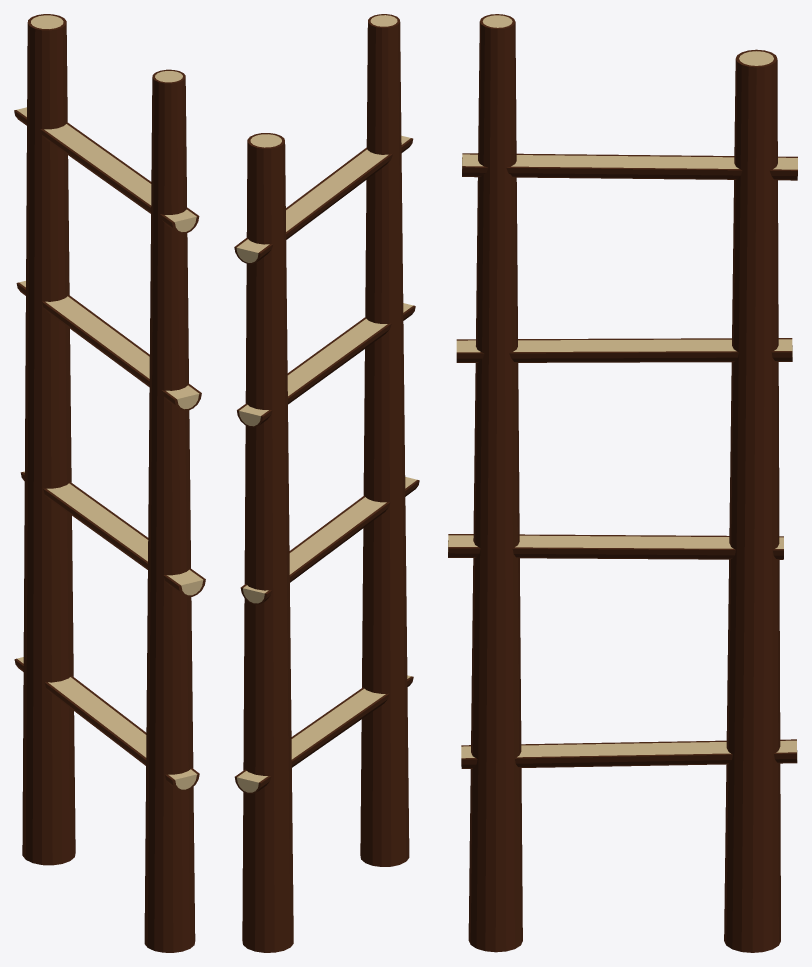
The model's file is Ladder.fbx.
The picture shows the model from 3 angles, left to right: view 1: azimuth 30°, elevation 25°; view 2: azimuth 150°, elevation 25°; view 3: azimuth 270°, elevation 25°; orthographic projection. The views are drawn at different scales.
Parts seen in each view (by area): view 1: Cylinder.006; view 2: Cylinder.006; view 3: Cylinder.006.
Boxes of the visible parts, left/top/right/bottom form: Cylinder.006: left=14, top=14, right=205, bottom=952; Cylinder.006: left=234, top=14, right=419, bottom=952; Cylinder.006: left=448, top=14, right=797, bottom=952.
Size of the model in its own units: 57.68 by 354 by 1027.
